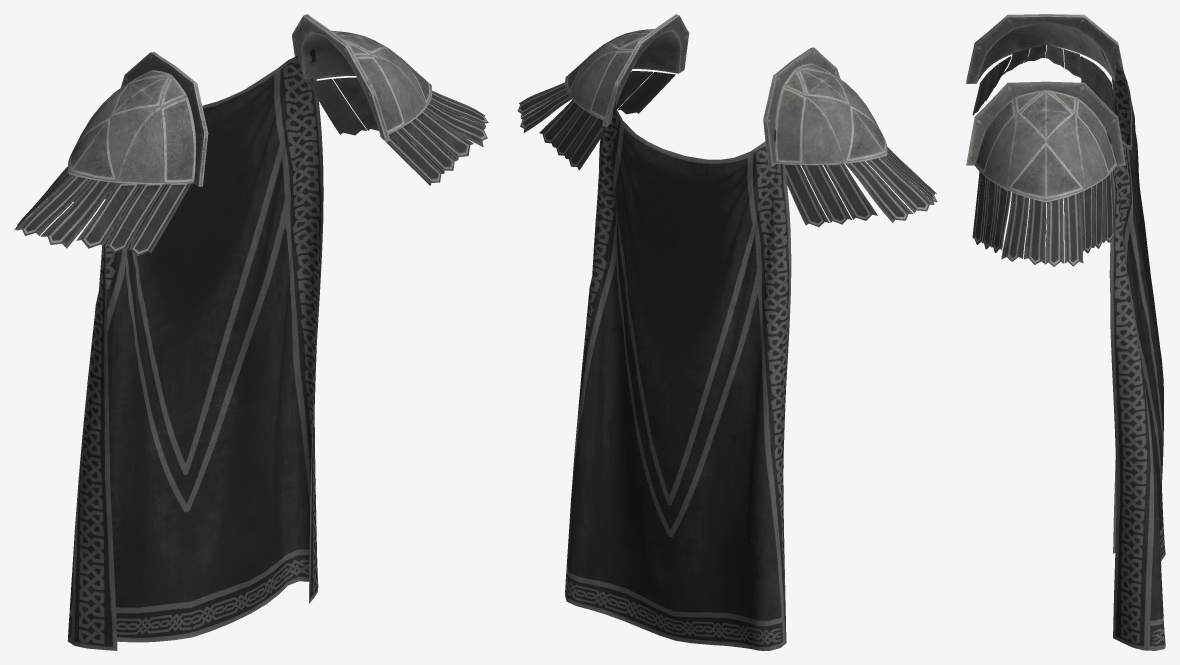
Rendered from sk_dwarf_erebor_pauldron_plate_cape_heavy_f.fbx.
The picture shows the model from 3 angles, left to right: view 1: azimuth 30°, elevation 25°; view 2: azimuth 150°, elevation 25°; view 3: azimuth 270°, elevation 25°; orthographic projection. The views are drawn at different scales.
Visible parts, largest first — view 1: sk_dwarf_erebor_pauldron_plate_cape_heavy_f.1, sk_dwarf_erebor_pauldron_plate_cape_heavy_f.0; view 2: sk_dwarf_erebor_pauldron_plate_cape_heavy_f.1, sk_dwarf_erebor_pauldron_plate_cape_heavy_f.0; view 3: sk_dwarf_erebor_pauldron_plate_cape_heavy_f.0, sk_dwarf_erebor_pauldron_plate_cape_heavy_f.1.
Part boxes in pixels (x1=…): sk_dwarf_erebor_pauldron_plate_cape_heavy_f.1: x1=67, y1=49, x2=323, y2=650; sk_dwarf_erebor_pauldron_plate_cape_heavy_f.0: x1=14, y1=14, x2=488, y2=256; sk_dwarf_erebor_pauldron_plate_cape_heavy_f.1: x1=565, y1=102, x2=791, y2=650; sk_dwarf_erebor_pauldron_plate_cape_heavy_f.0: x1=517, y1=14, x2=937, y2=226; sk_dwarf_erebor_pauldron_plate_cape_heavy_f.0: x1=966, y1=14, x2=1125, y2=266; sk_dwarf_erebor_pauldron_plate_cape_heavy_f.1: x1=1100, y1=49, x2=1165, y2=650.
Bounding box in the file's own units: 0.9344 × 0.3811 × 1.2.
Materials: 2 (2 with a texture image).
